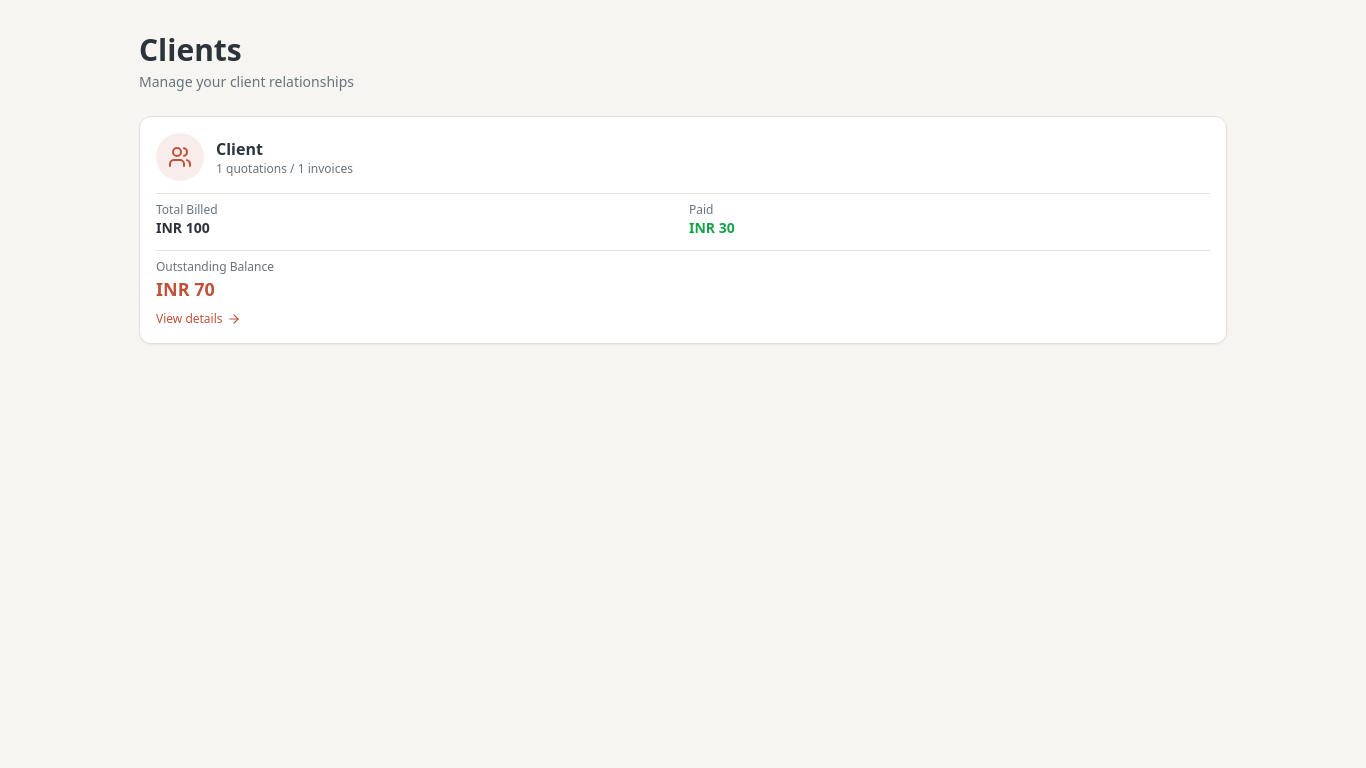
opens the client record and links to quotations and invoices
Later steps or results of the test are not shown.
Click the button with aria-label "View client Client": (683, 230) [139, 116, 1227, 344]
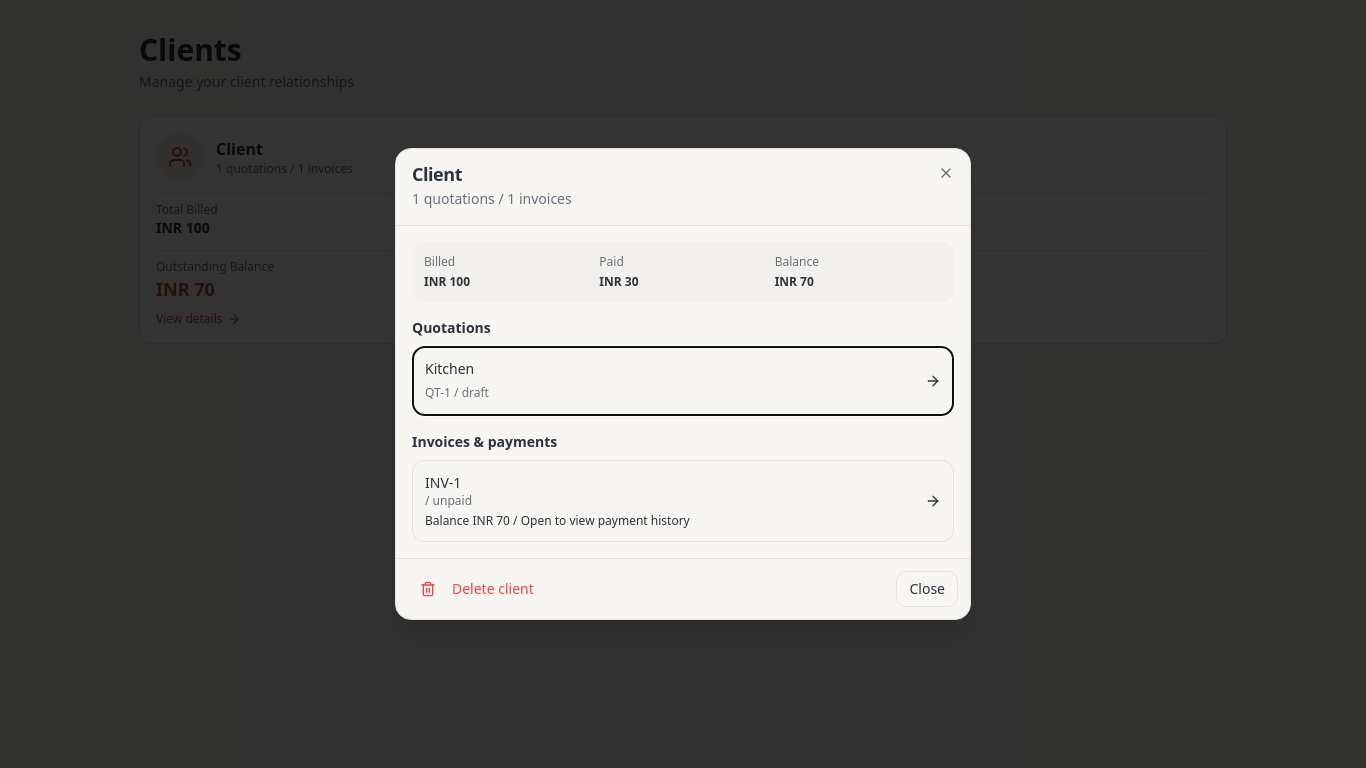
Now the dialog is shown, box [395, 148, 971, 620]
